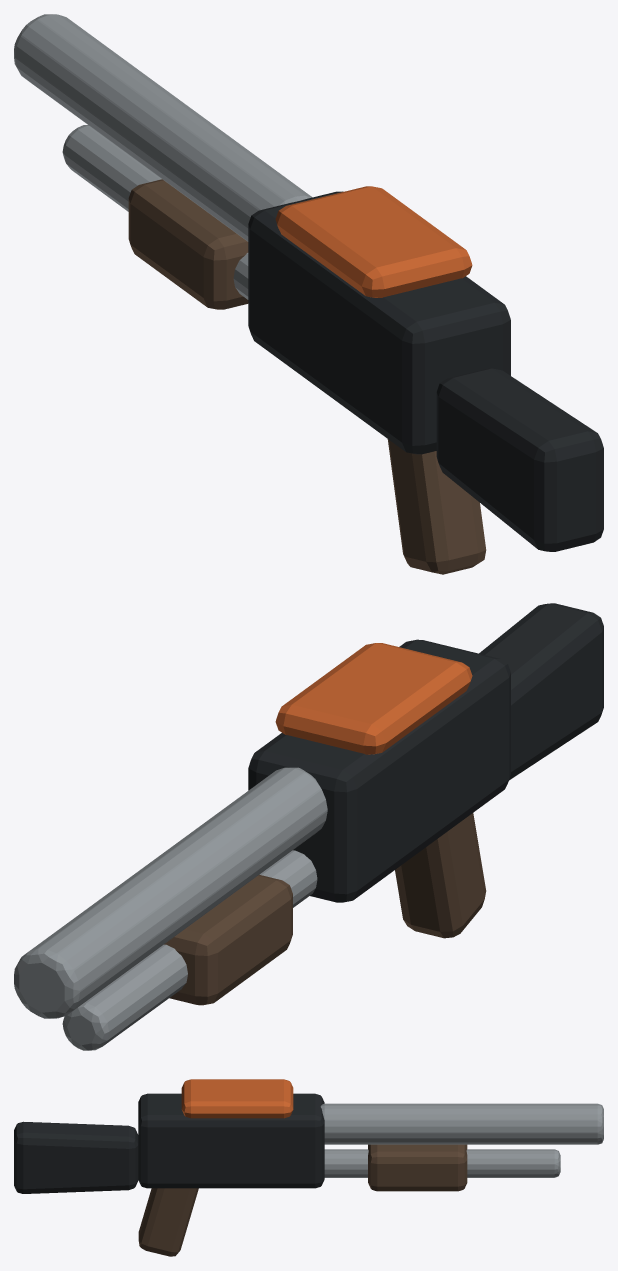
The model's file is scattergun.glb.
3 renders of one model, top to bottom at view 1: azimuth 30°, elevation 25°; view 2: azimuth 150°, elevation 25°; view 3: azimuth 270°, elevation 25°, orthographic. The views are drawn at different scales.
Parts seen in each view (by area): view 1: receiver, barrel, stock, stripe, pump, grip, tube; view 2: receiver, barrel, stripe, stock, pump, tube, grip; view 3: receiver, barrel, stock, pump, stripe, tube, grip.
Part boxes in pixels (x1,y1,x2,y2): receiver: (248, 191, 510, 454); barrel: (14, 14, 312, 241); stock: (436, 368, 603, 551); stripe: (275, 186, 472, 297); pump: (128, 179, 248, 309); grip: (387, 439, 486, 574); tube: (62, 125, 248, 299); receiver: (248, 639, 510, 902); barrel: (14, 767, 327, 1018); stripe: (275, 643, 472, 754); stock: (479, 603, 603, 780); pump: (164, 874, 292, 1005); tube: (62, 850, 317, 1050); grip: (395, 813, 486, 938); receiver: (138, 1093, 324, 1188); barrel: (320, 1103, 603, 1144); stock: (14, 1121, 138, 1193); pump: (368, 1144, 467, 1191); stripe: (181, 1079, 293, 1118); tube: (324, 1149, 560, 1177); grip: (138, 1188, 198, 1256).
Size of the model in its own units: 0.112 by 0.2876 by 0.95.
